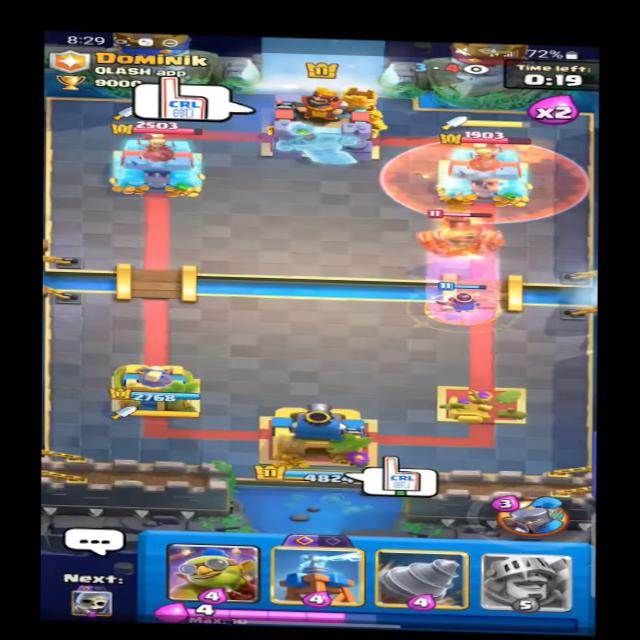goblin-machine: (414, 202, 504, 261)
